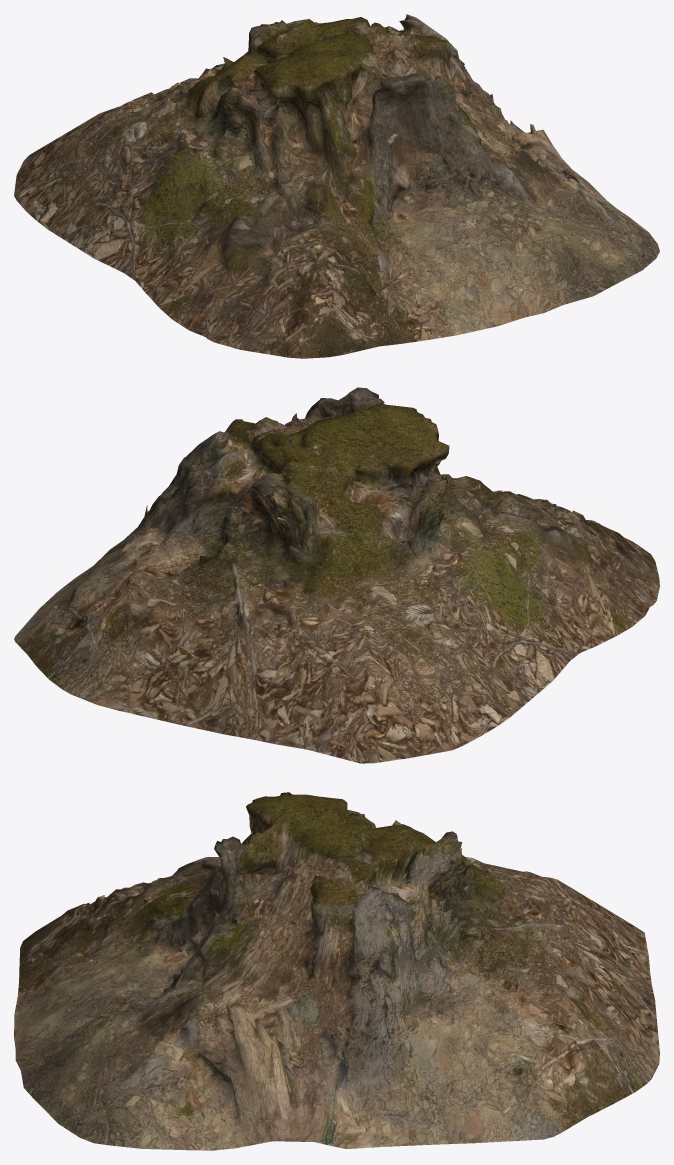
The model's file is village-floor-tree_stump_01.glb.
The picture shows the model from 3 angles, top to bottom: view 1: azimuth 30°, elevation 25°; view 2: azimuth 150°, elevation 25°; view 3: azimuth 270°, elevation 25°; orthographic projection. The views are drawn at different scales.
Parts seen in each view (by area): view 1: tree_stump_01; view 2: tree_stump_01; view 3: tree_stump_01.
Part boxes in pixels (x1,y1,x2,y2): tree_stump_01: [14, 14, 659, 358]; tree_stump_01: [14, 387, 659, 763]; tree_stump_01: [14, 792, 659, 1150].
Size of the model in its own units: 1.43 by 0.5709 by 1.59.
Materials: 1 (1 with a texture image).
